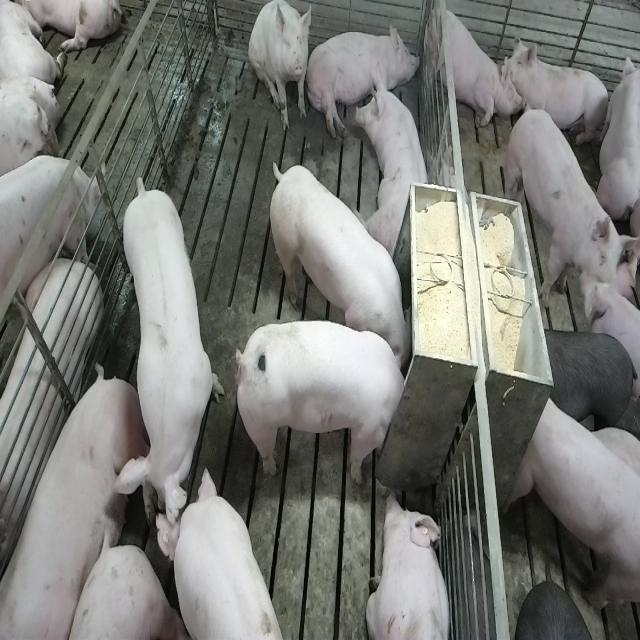Feeding: (263, 160, 412, 366), (241, 319, 416, 485)
Lateral_lying: (4, 369, 159, 640), (306, 21, 420, 141)
Sitting: (424, 0, 516, 131), (249, 2, 312, 134)
Standing: (114, 176, 219, 541), (505, 101, 638, 330), (510, 393, 638, 627), (152, 469, 283, 640), (0, 158, 99, 350), (544, 324, 637, 441)
Sternal_lying: (357, 67, 434, 258), (366, 490, 453, 640), (504, 36, 612, 152)
